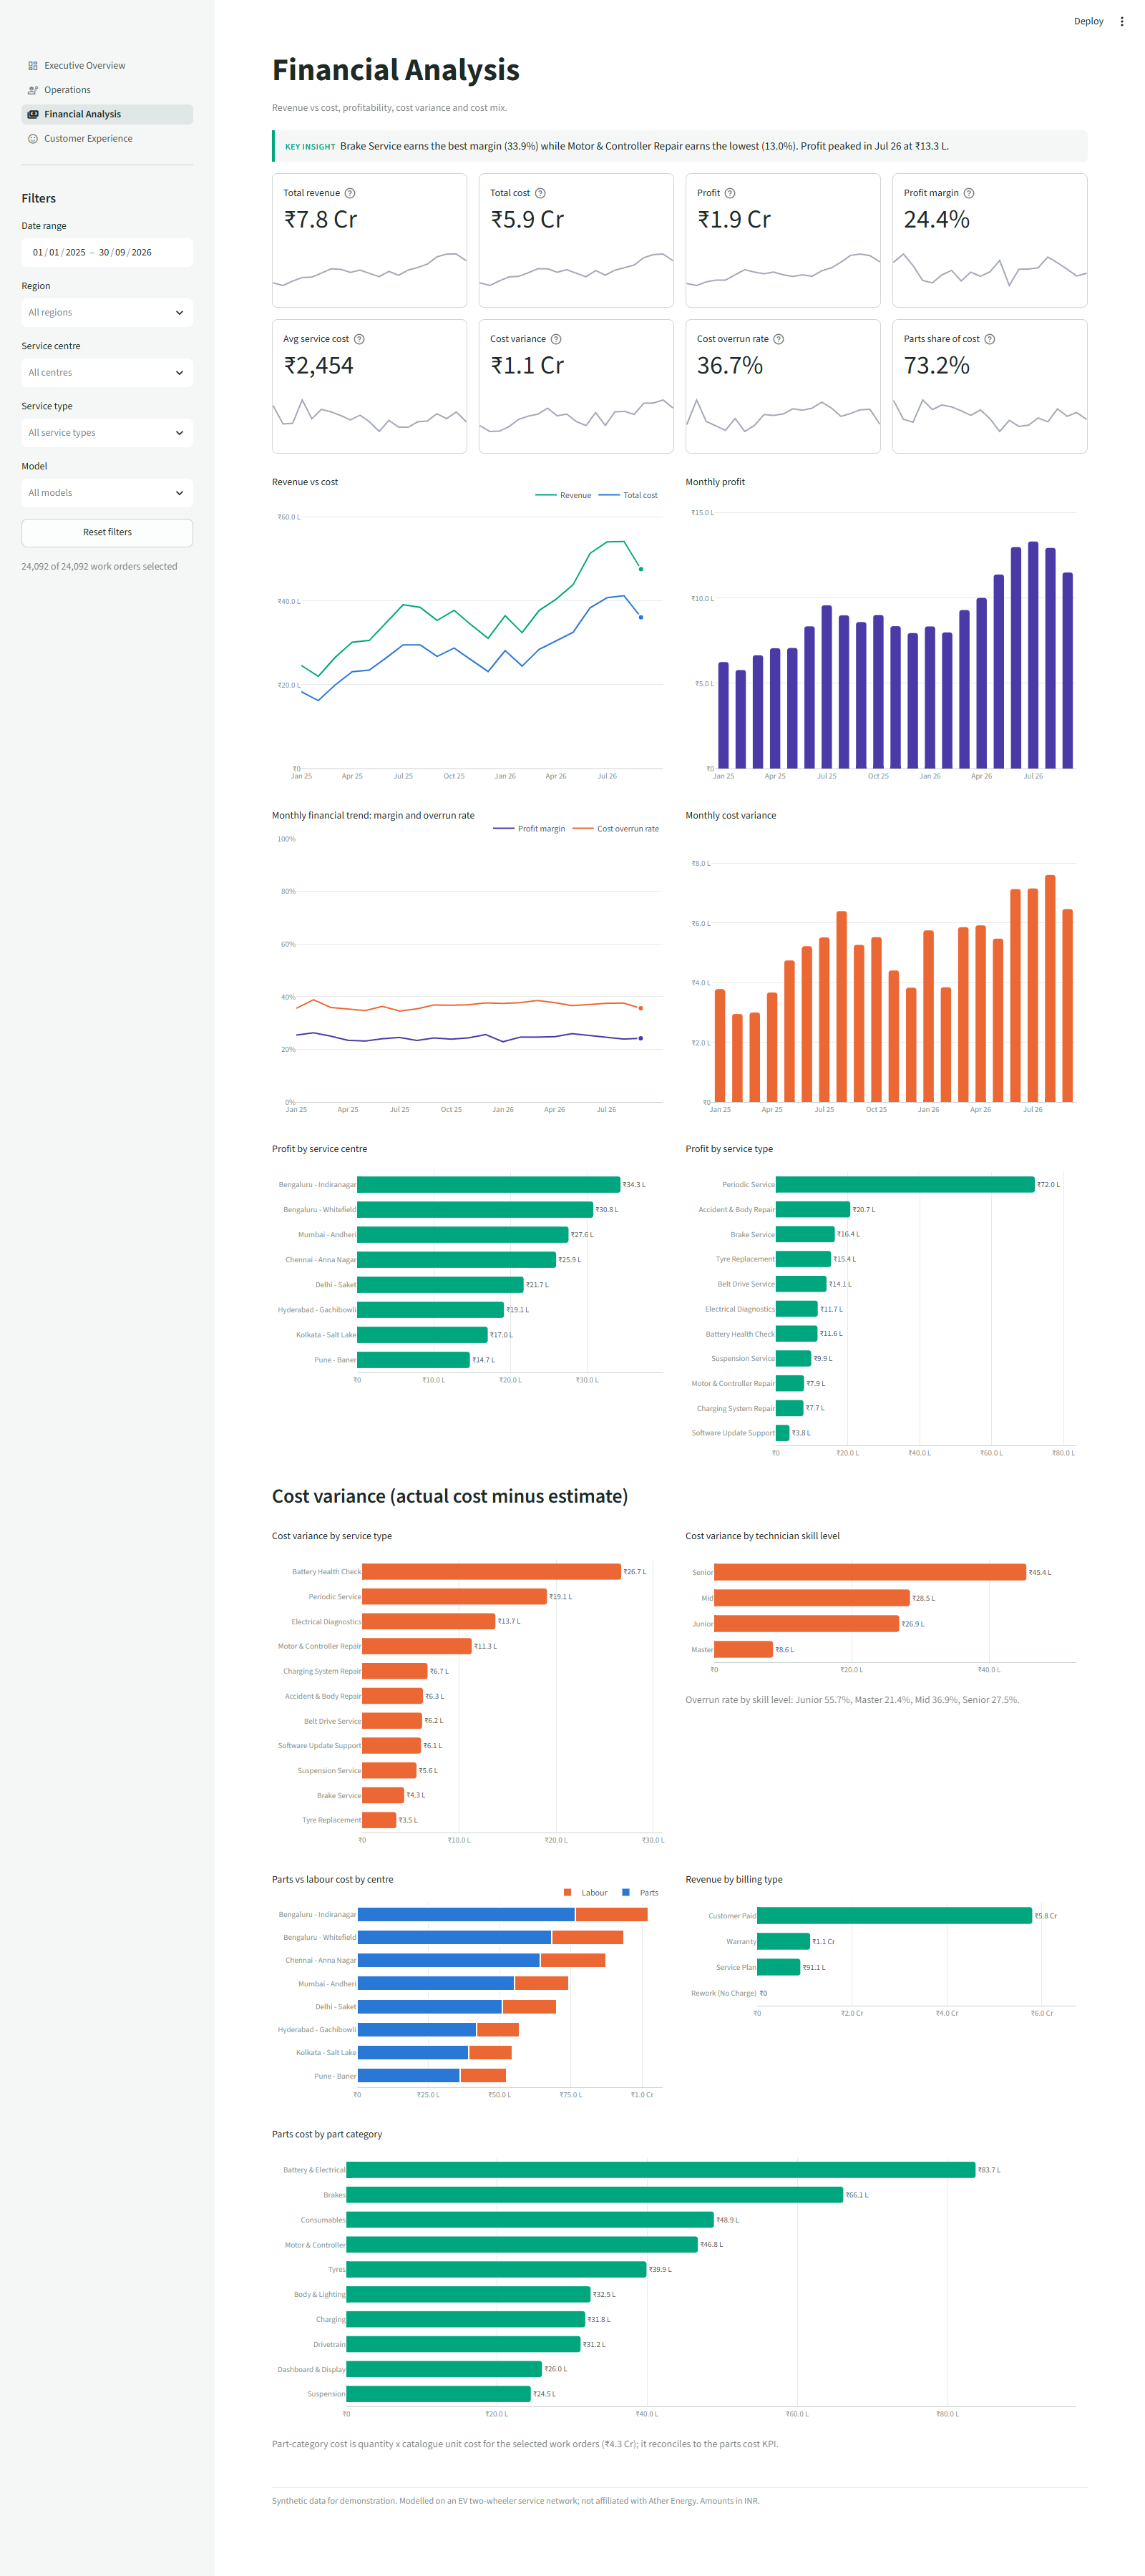

The page's visual inventory and layout, read from the dashboard file:
{"tool":"powerbi","page":{"name":"Financial Analysis","canvas":[1280,1100],"ordinal":2},"visuals":[{"type":"textbox","box":[216,8,700,40],"z":0},{"type":"card","fields":{"Values":["_Measures.Selection Label"]},"box":[860,12,396,34],"z":1000},{"type":"card","fields":{"Values":["_Measures.Key Insight - Financial"]},"box":[216,52,1040,52],"z":2000},{"type":"textbox","box":[24,14,180,30],"z":3000},{"type":"slicer","fields":{"Values":["DimDate.date"]},"box":[24,52,176,90],"z":4000},{"type":"slicer","fields":{"Values":["DimCentre.region"]},"box":[24,150,176,60],"z":5000},{"type":"slicer","fields":{"Values":["DimCentre.center_name"]},"box":[24,218,176,60],"z":6000},{"type":"slicer","fields":{"Values":["DimServiceType.service_type"]},"box":[24,286,176,60],"z":7000},{"type":"slicer","fields":{"Values":["DimModel.model"]},"box":[24,354,176,60],"z":8000},{"type":"textbox","box":[24,1070,1232,28],"z":9000},{"type":"card","fields":{"Values":["_Measures.INR Short Revenue"]},"box":[216,112,123,72],"z":10000},{"type":"card","fields":{"Values":["_Measures.INR Short Cost"]},"box":[347,112,123,72],"z":11000},{"type":"card","fields":{"Values":["_Measures.INR Short Profit"]},"box":[478,112,123,72],"z":12000},{"type":"card","fields":{"Values":["_Measures.Profit Margin %"]},"box":[609,112,123,72],"z":13000},{"type":"card","fields":{"Values":["_Measures.Avg Service Cost"]},"box":[740,112,123,72],"z":14000},{"type":"card","fields":{"Values":["_Measures.Cost Variance"]},"box":[871,112,123,72],"z":15000},{"type":"card","fields":{"Values":["_Measures.Cost Overrun Rate"]},"box":[1002,112,123,72],"z":16000},{"type":"card","fields":{"Values":["_Measures.Parts Share of Cost %"]},"box":[1133,112,123,72],"z":17000},{"type":"lineChart","title":"Revenue vs cost by month (INR)","fields":{"Category":["DimDate.Month Label"],"Y":["_Measures.Total Revenue","_Measures.Total Cost"]},"box":[216,192,516,210],"z":18000},{"type":"clusteredColumnChart","title":"Monthly profit (INR)","fields":{"Category":["DimDate.Month Label"],"Y":["_Measures.Profit"]},"box":[740,192,516,210],"z":19000},{"type":"lineChart","title":"Profit margin and cost-overrun rate by month","fields":{"Category":["DimDate.Month Label"],"Y":["_Measures.Profit Margin %","_Measures.Cost Overrun Rate"]},"box":[216,410,516,170],"z":20000},{"type":"clusteredColumnChart","title":"Monthly cost variance: actual minus estimate (INR)","fields":{"Category":["DimDate.Month Label"],"Y":["_Measures.Cost Variance"]},"box":[740,410,516,170],"z":21000},{"type":"clusteredBarChart","title":"Profit by service centre (INR)","fields":{"Category":["DimCentre.center_name"],"Y":["_Measures.Profit"]},"box":[216,588,330,250],"z":22000},{"type":"clusteredBarChart","title":"Profit by service type (INR)","fields":{"Category":["DimServiceType.service_type"],"Y":["_Measures.Profit"]},"box":[554,588,330,250],"z":23000},{"type":"clusteredBarChart","title":"Cost variance by service type (INR)","fields":{"Category":["DimServiceType.service_type"],"Y":["_Measures.Cost Variance"]},"box":[892,588,364,250],"z":24000},{"type":"clusteredBarChart","title":"Cost variance by skill level (INR)","fields":{"Category":["DimTechnician.skill_level"],"Y":["_Measures.Cost Variance"]},"box":[216,846,250,228],"z":25000},{"type":"barChart","title":"Parts vs labour cost by centre (INR)","fields":{"Category":["DimCentre.center_name"],"Y":["_Measures.Parts Cost","_Measures.Labour Cost"]},"box":[474,846,300,228],"z":26000},{"type":"clusteredBarChart","title":"Revenue by billing type (INR)","fields":{"Category":["fact_service.billing_type"],"Y":["_Measures.Total Revenue"]},"box":[782,846,230,228],"z":27000},{"type":"clusteredBarChart","title":"Parts cost by part category (INR)","fields":{"Category":["parts.part_category"],"Y":["_Measures.Parts Cost (Catalogue)"]},"box":[1020,846,236,228],"z":28000}]}

Visuals, with their boxes on the page's 1280x1100 design canvas (x1, y1, x2, y2). These are canvas units, not pixel positions in the 1145x2576 screenshot, which may show the page scaled, cropped or inside an application window:
textbox: 216 8 916 48
card - _Measures.Selection Label: 860 12 1256 46
card - _Measures.Key Insight - Financial: 216 52 1256 104
textbox: 24 14 204 44
slicer - DimDate.date: 24 52 200 142
slicer - DimCentre.region: 24 150 200 210
slicer - DimCentre.center_name: 24 218 200 278
slicer - DimServiceType.service_type: 24 286 200 346
slicer - DimModel.model: 24 354 200 414
textbox: 24 1070 1256 1098
card - _Measures.INR Short Revenue: 216 112 339 184
card - _Measures.INR Short Cost: 347 112 470 184
card - _Measures.INR Short Profit: 478 112 601 184
card - _Measures.Profit Margin %: 609 112 732 184
card - _Measures.Avg Service Cost: 740 112 863 184
card - _Measures.Cost Variance: 871 112 994 184
card - _Measures.Cost Overrun Rate: 1002 112 1125 184
card - _Measures.Parts Share of Cost %: 1133 112 1256 184
"Revenue vs cost by month (INR)" lineChart: 216 192 732 402
"Monthly profit (INR)" clusteredColumnChart: 740 192 1256 402
"Profit margin and cost-overrun rate by month" lineChart: 216 410 732 580
"Monthly cost variance: actual minus estimate (INR)" clusteredColumnChart: 740 410 1256 580
"Profit by service centre (INR)" clusteredBarChart: 216 588 546 838
"Profit by service type (INR)" clusteredBarChart: 554 588 884 838
"Cost variance by service type (INR)" clusteredBarChart: 892 588 1256 838
"Cost variance by skill level (INR)" clusteredBarChart: 216 846 466 1074
"Parts vs labour cost by centre (INR)" barChart: 474 846 774 1074
"Revenue by billing type (INR)" clusteredBarChart: 782 846 1012 1074
"Parts cost by part category (INR)" clusteredBarChart: 1020 846 1256 1074
